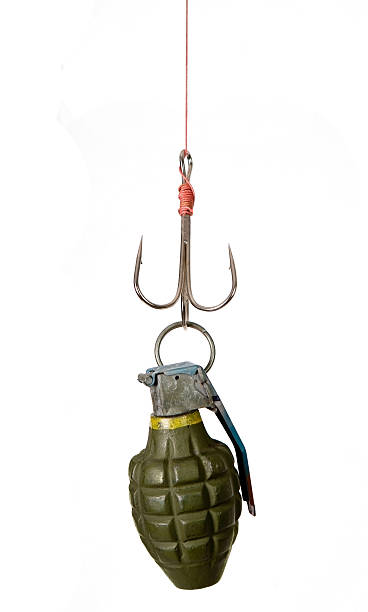e1: (124, 322, 258, 595)
